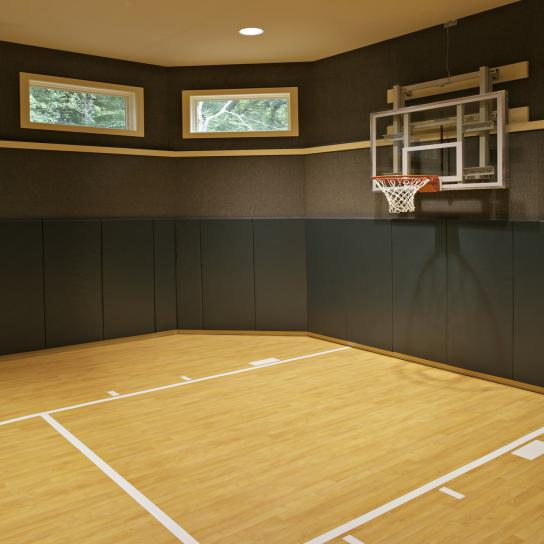basketball-hoop: (370, 173, 433, 216)
